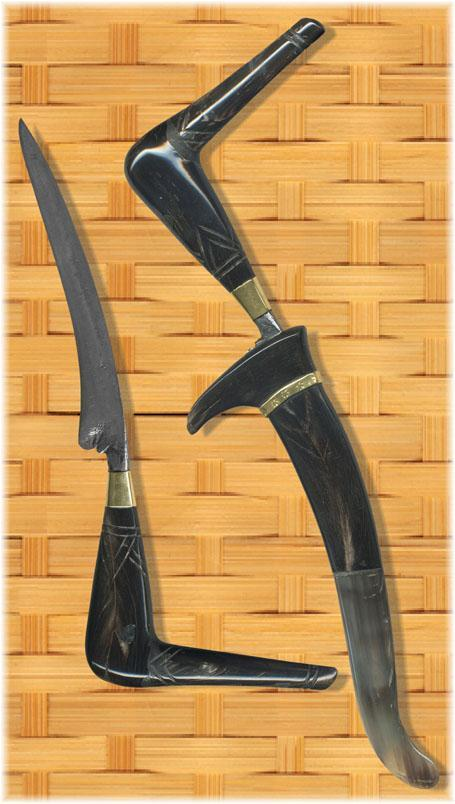espada: (125, 20, 439, 786), (20, 120, 334, 687)
